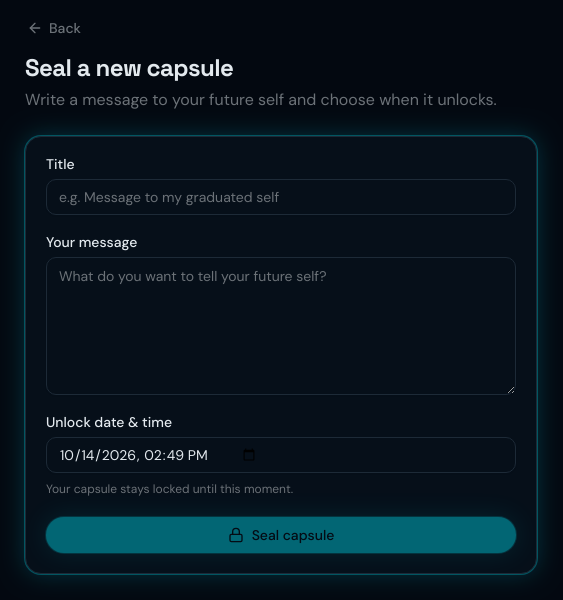
Test: CreateCapsulePage › disables submit until a title, message, and future unlock time are provided
Expected: the button "Seal capsule" is disabled, [46,517,516,553]
Type "Graduation" into the field labelled "Title".
click(281, 197); type("Graduation")  # box [46,179,516,215]
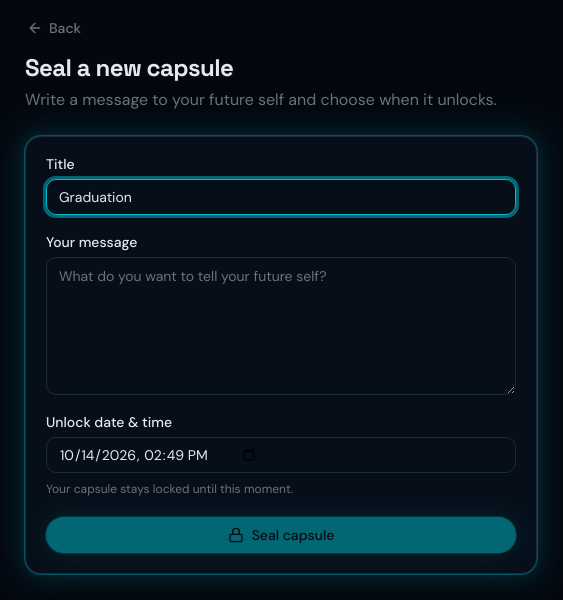
Type "You made it!" into the text box labelled "Your message".
click(281, 326); type("You made it!")  # box [46,257,516,395]
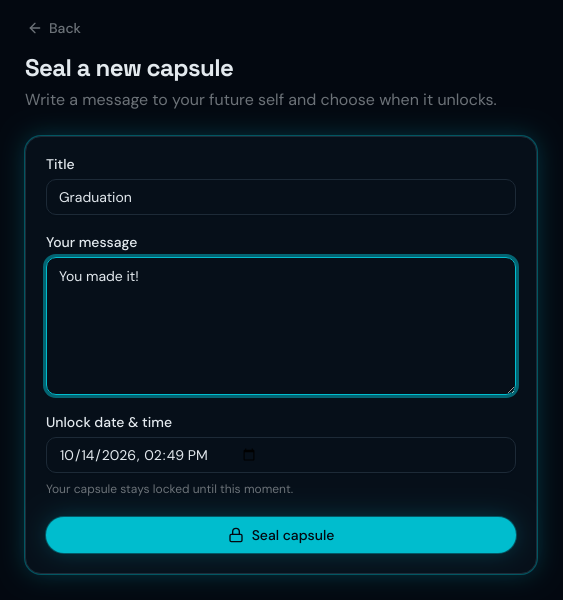
Expected: the button "Seal capsule" is enabled, [46,517,516,553]
